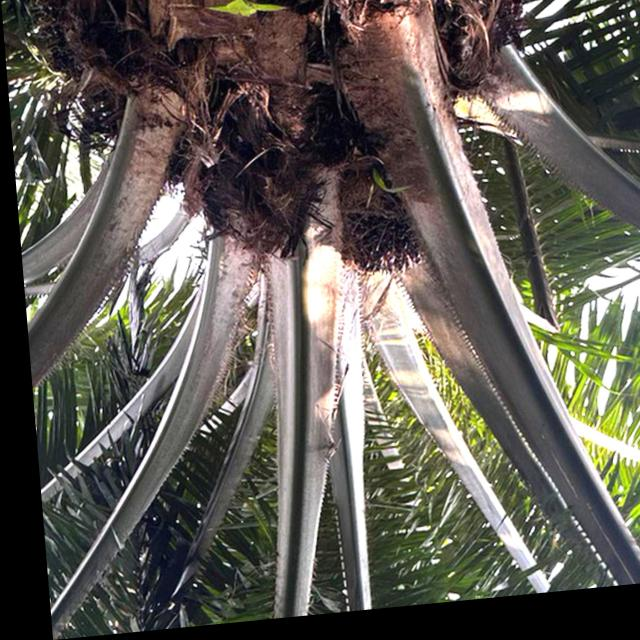almost: (323, 177, 428, 296)
